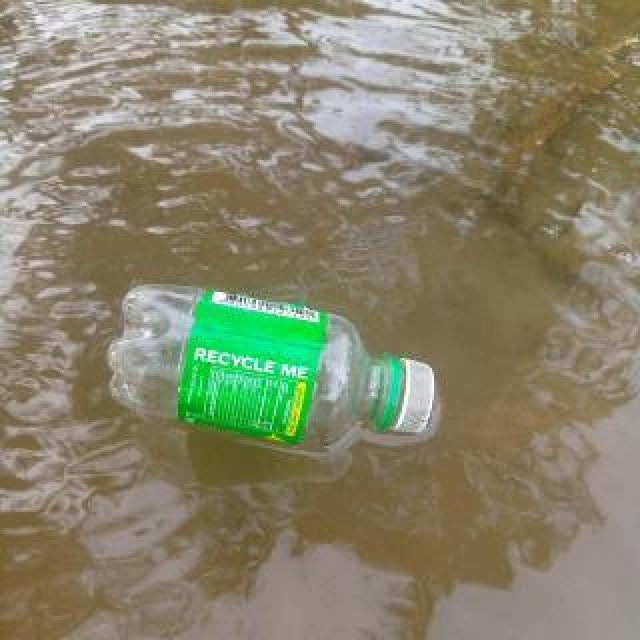bottle: (109, 282, 435, 458)
